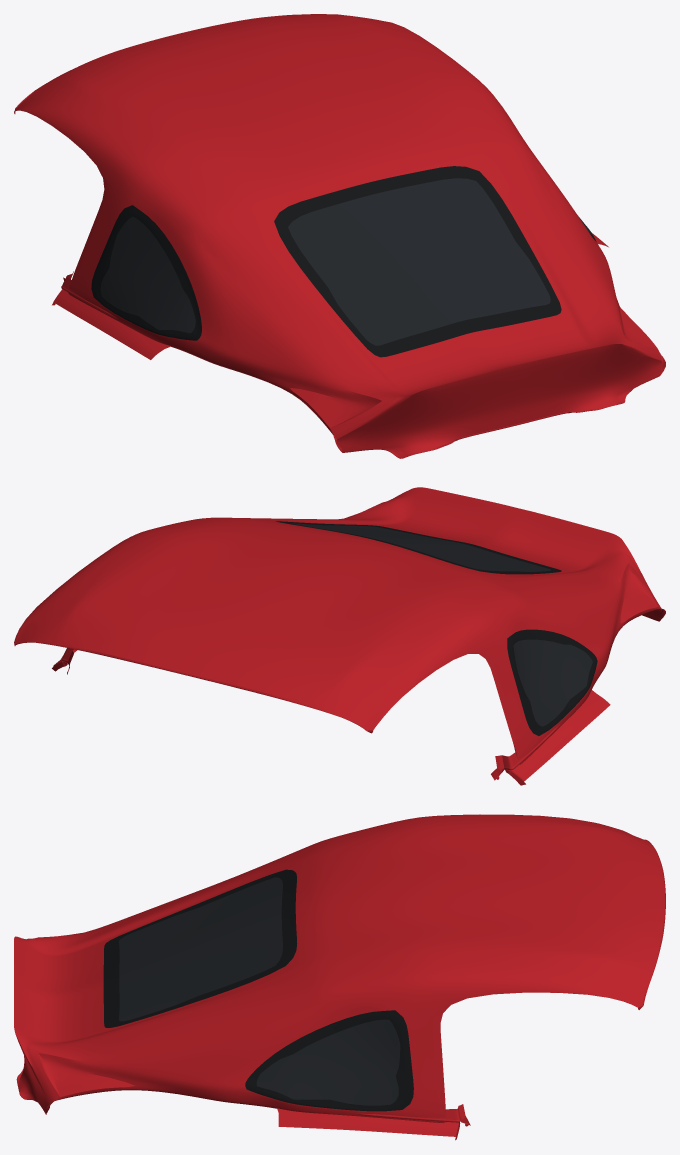
The model's file is fastback.glb.
3 renders of one model, top to bottom at view 1: azimuth 30°, elevation 25°; view 2: azimuth 150°, elevation 25°; view 3: azimuth 270°, elevation 25°, orthographic. The views are drawn at different scales.
Visible parts, largest first — view 1: Miata_Aero_RoofFastback, Miata_Roof_Mount_RoofFastback; view 2: Miata_Aero_RoofFastback, Miata_Roof_Mount_RoofFastback; view 3: Miata_Aero_RoofFastback, Miata_Roof_Mount_RoofFastback.
Boxes of the visible parts, left/top/right/bottom form: Miata_Aero_RoofFastback: left=14, top=14, right=665, bottom=458; Miata_Roof_Mount_RoofFastback: left=52, top=232, right=608, bottom=359; Miata_Aero_RoofFastback: left=14, top=487, right=665, bottom=764; Miata_Roof_Mount_RoofFastback: left=52, top=648, right=610, bottom=785; Miata_Aero_RoofFastback: left=14, top=814, right=665, bottom=1122; Miata_Roof_Mount_RoofFastback: left=277, top=1104, right=470, bottom=1140.
Bounding box in the file's own units: 62.44 × 21.71 × 77.26.
